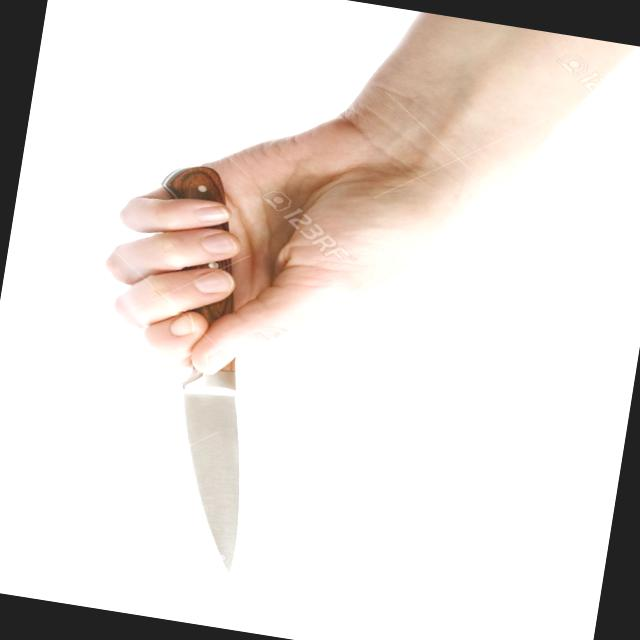knife: (54, 188, 331, 598)
